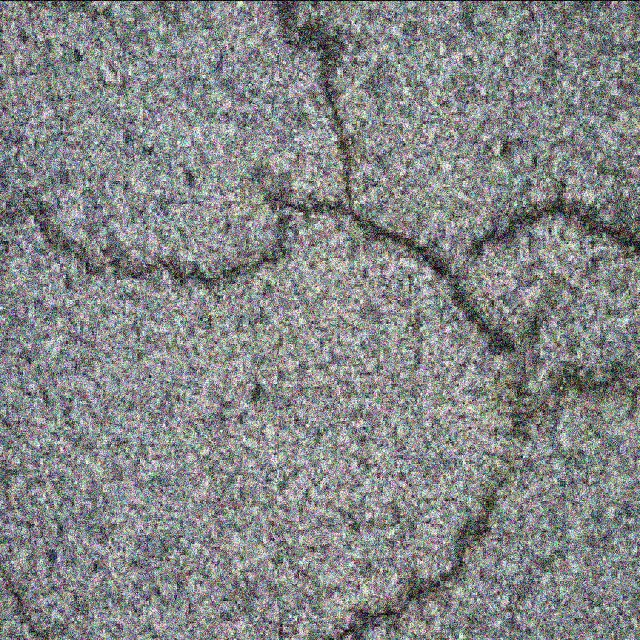SurfaceCrack: (46, 18, 634, 558)
